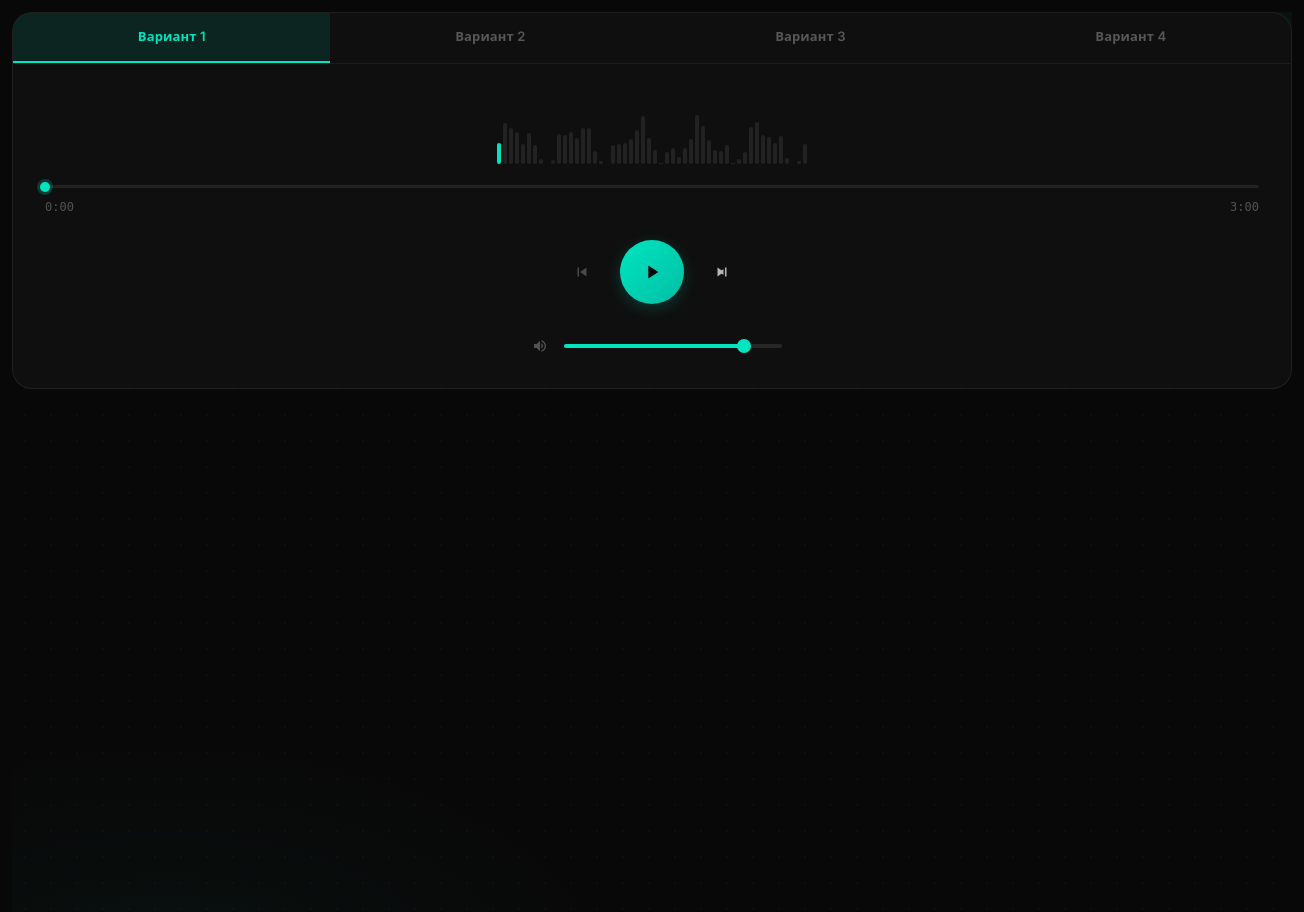
Test: MusicPlayer › блокирует «Предыдущий» на первом треке и «Следующий» на последнем
Expected: the button named "Предыдущий вариант" is disabled, [560,250,604,294]
Expected: the button named "Следующий вариант" is enabled, [700,250,744,294]
// Переключаемся на последний вариант — границы инвертируются.
Click the button "Вариант 4".
click(1131, 38)  # box [970,13,1291,62]
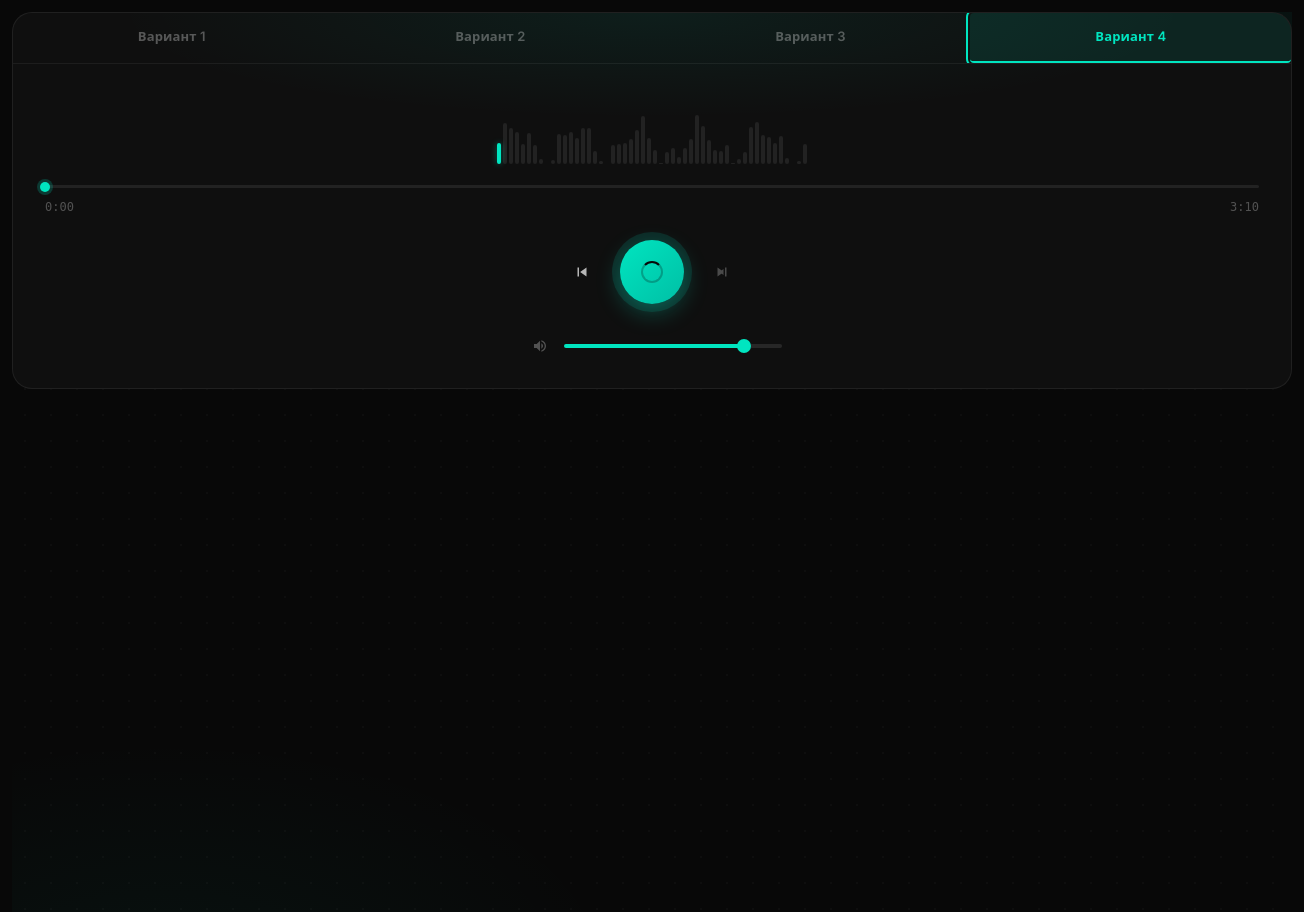
Now the button named "Следующий вариант" is disabled, box [700,250,744,294]
Now the button named "Предыдущий вариант" is enabled, box [560,250,604,294]
